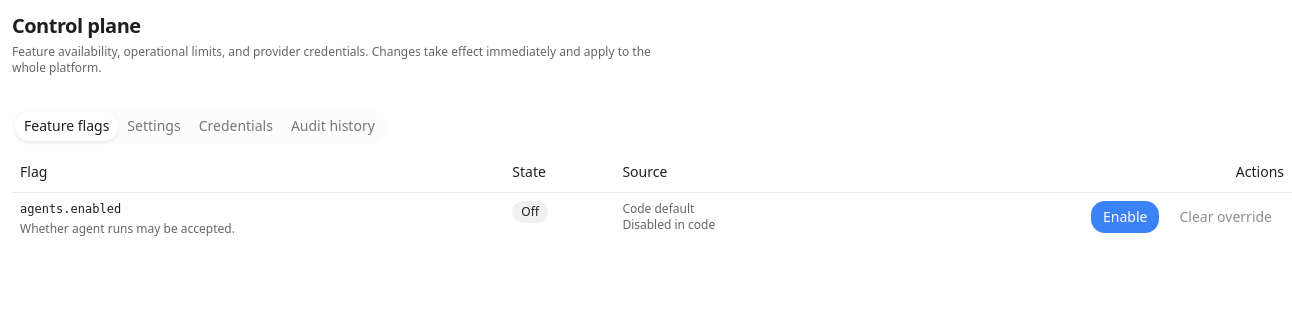
Test: a listing that fails › lets the operator dismiss a write failure
Check: the text "agents.enabled" is shown, box [20,202,121,216]
Click the button "Enable".
click(1125, 216)  # box [1091,200,1160,232]
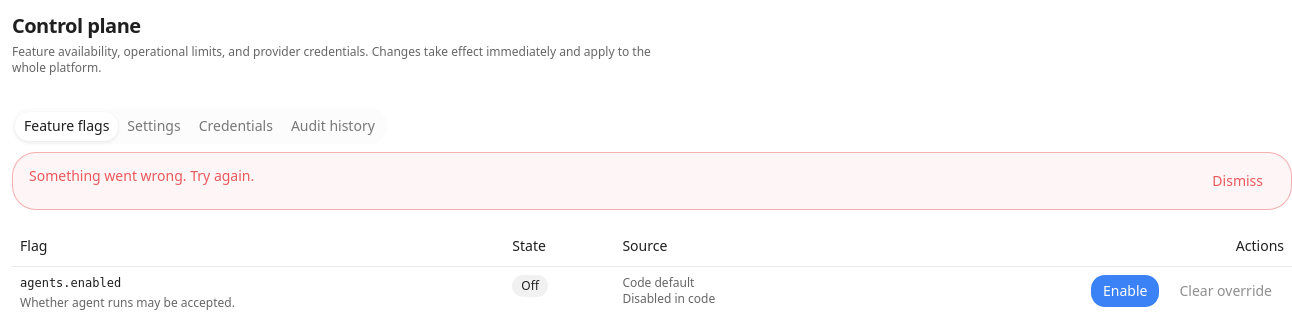
Check: the text "Something went wrong. Try again." is shown, box [29,165,254,188]
Click the button "Dismiss".
click(1238, 181)  # box [1200,165,1275,197]
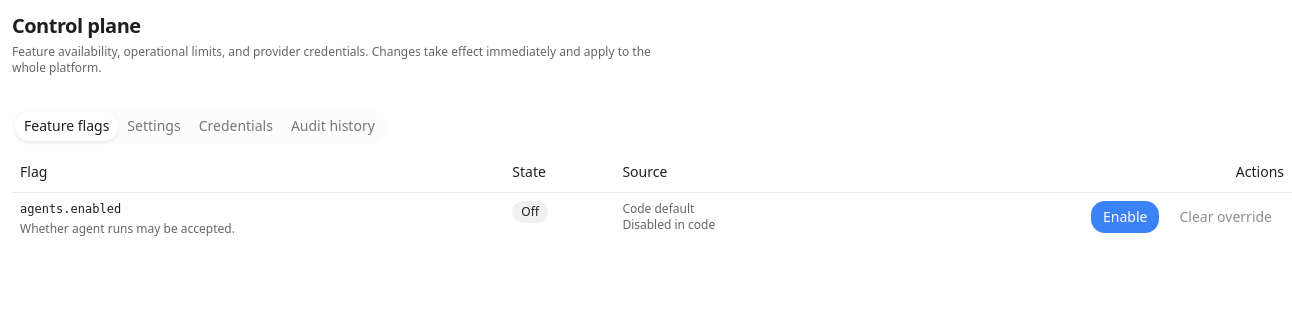
Check: the text "Something went wrong" is gone
